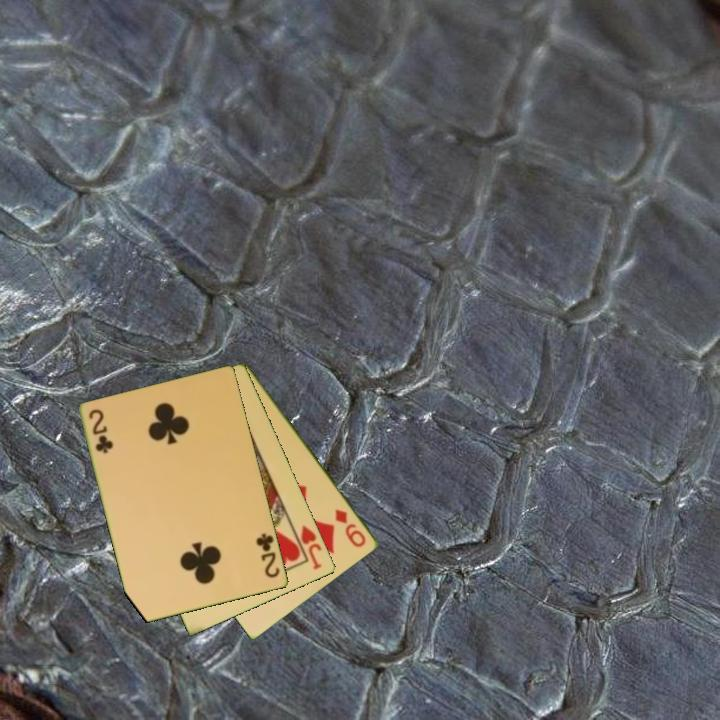2c: (253, 530, 283, 581), (86, 406, 115, 457)
9d: (332, 505, 369, 550)
Jh: (297, 522, 325, 573)
